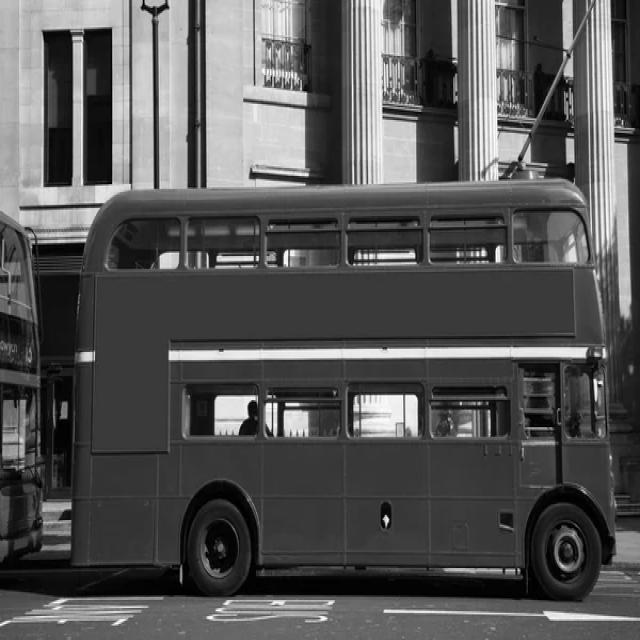Bus: (73, 180, 618, 602)
